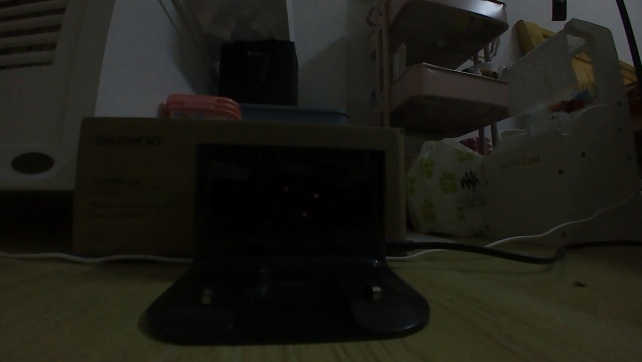charger: (136, 139, 432, 348)
wire: (381, 184, 640, 267), (0, 245, 194, 271)
